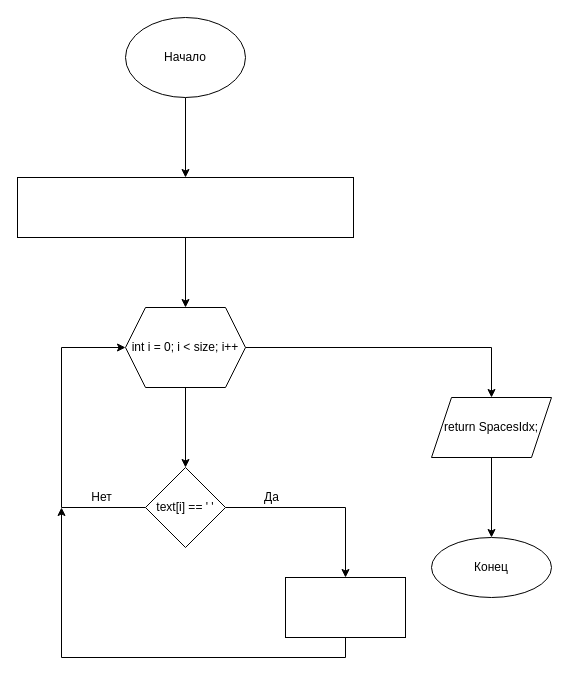
Image size: 569x683. Some labels were removed from this diagram. The centre of each missing label's shape, as x and y in pixels:
"int* SpacesIdx = new int[SpacesCount(text, size)]; int j = 0;" belongs at point (185, 207).
"SpacesIdx[j] = i; j++;" belongs at point (345, 607).
